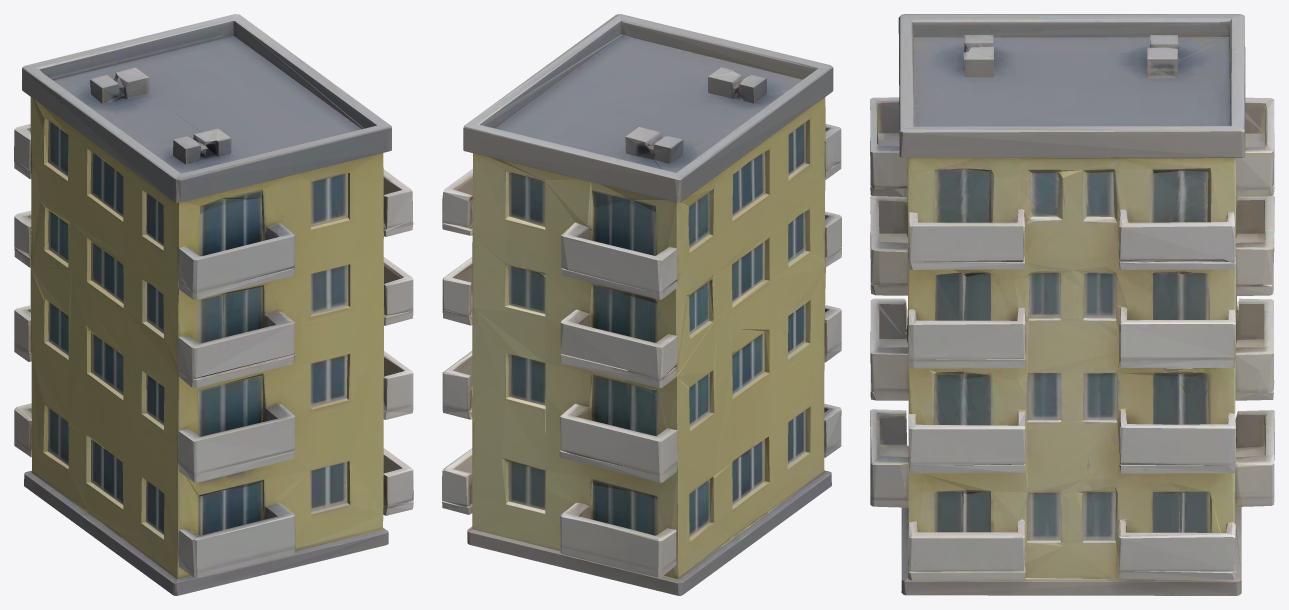
Rendered from b-apart.glb.
The picture shows the model from 3 angles, left to right: view 1: azimuth 30°, elevation 25°; view 2: azimuth 150°, elevation 25°; view 3: azimuth 270°, elevation 25°; orthographic projection. The views are drawn at different scales.
Visible parts, largest first — view 1: geometry_0; view 2: geometry_0; view 3: geometry_0.
Boxes of the visible parts, x1,y1,x2,y2 form: geometry_0: [14, 14, 413, 595]; geometry_0: [442, 14, 841, 595]; geometry_0: [870, 14, 1274, 595].
Bounding box in the file's own units: 0.609 × 1 × 0.7883.
1 material, 1 textured.
